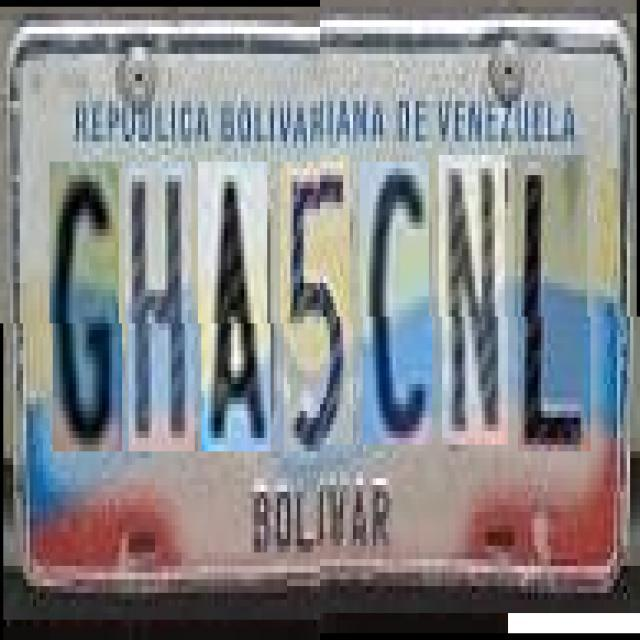5: (284, 162, 354, 452)
A: (201, 162, 271, 452)
C: (362, 168, 432, 452)
G: (52, 162, 122, 452)
H: (128, 162, 194, 452)
L: (518, 162, 590, 458)
N: (442, 162, 508, 452)
